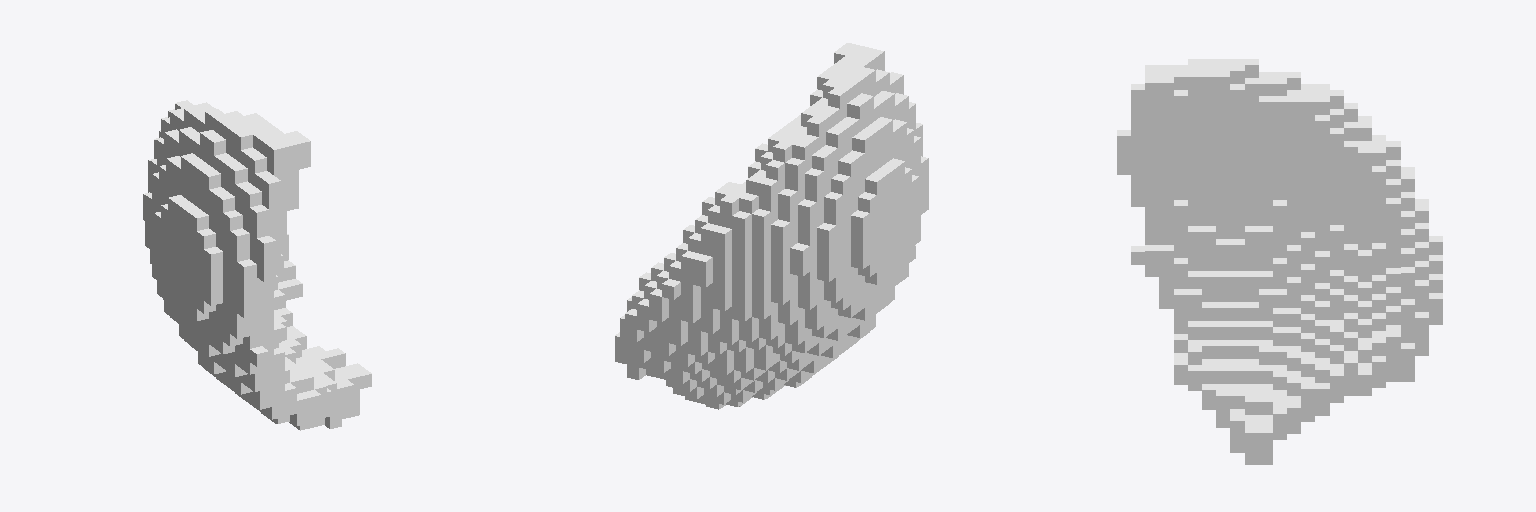
Rendered from BombDefaultShards-1.obj.
3 renders of one model, left to right at view 1: azimuth 30°, elevation 25°; view 2: azimuth 150°, elevation 25°; view 3: azimuth 270°, elevation 25°, orthographic.
Parts seen in each view (by area): view 1: object 1; view 2: object 1; view 3: object 1.
Boxes of the visible parts, <box> form: object 1: <box>143,100,371,430</box>; object 1: <box>615,43,928,409</box>; object 1: <box>1117,59,1442,464</box>.
Bounding box in the file's own units: 1.6 × 2.6 × 2.3.